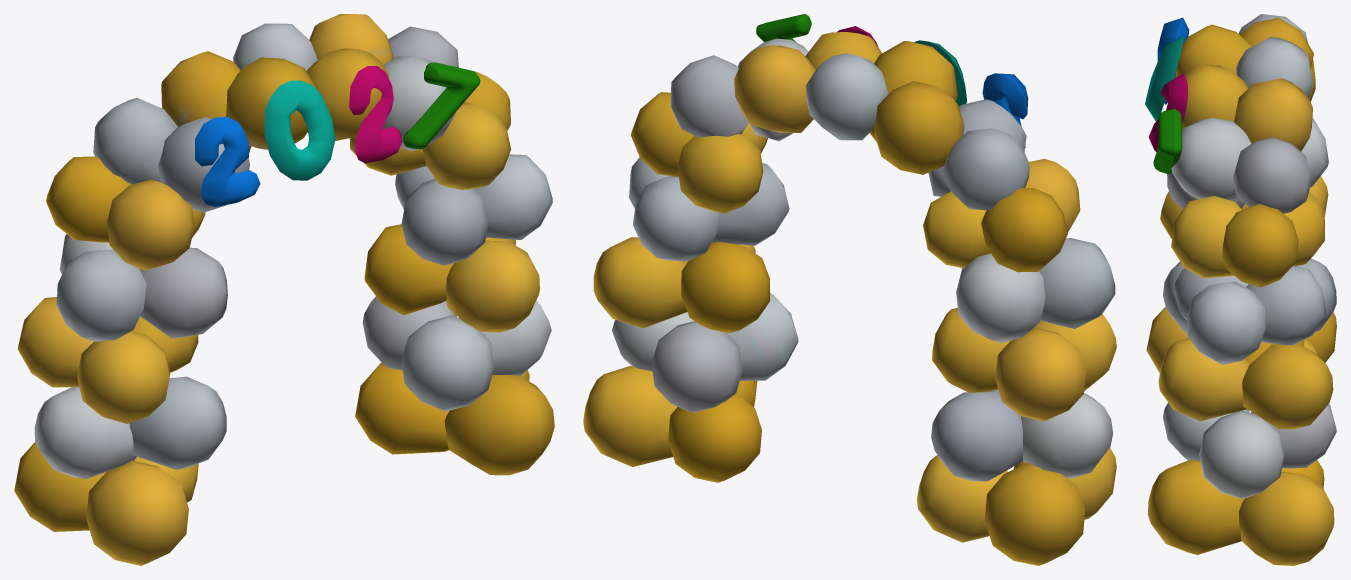
3 views of the same model, side by side, from view 1: azimuth 30°, elevation 25°; view 2: azimuth 150°, elevation 25°; view 3: azimuth 270°, elevation 25° (orthographic). The views are drawn at different scales.
Bounding box in the file's own units: 30.25 × 26.36 × 10.77.
Materials: 1 (1 with a texture image).
